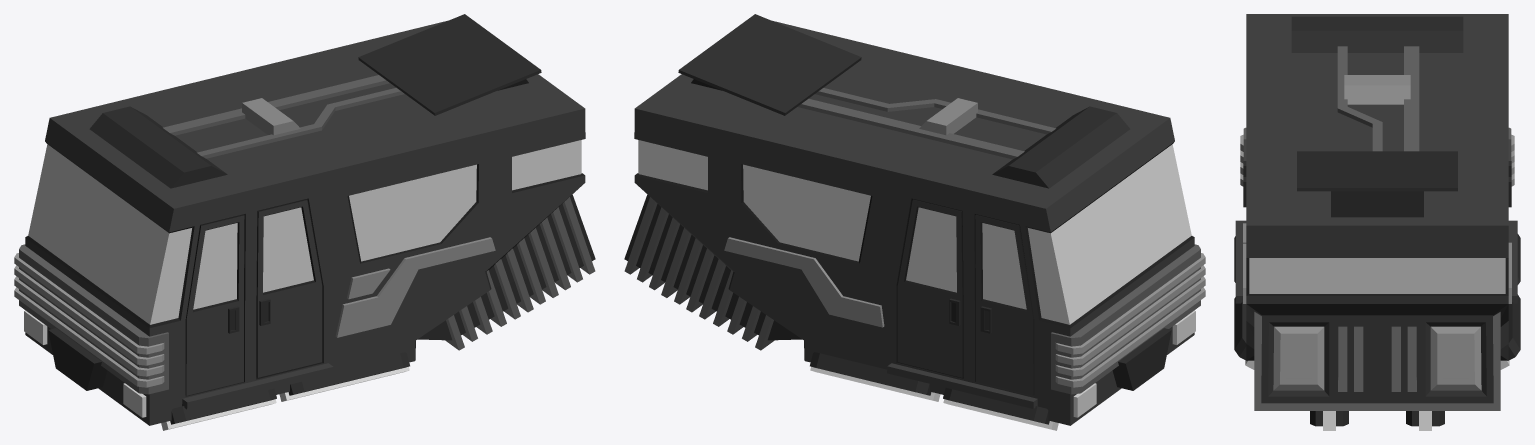
The model's file is car_B.FBX.
3 views of the same model, side by side, from view 1: azimuth 30°, elevation 25°; view 2: azimuth 150°, elevation 25°; view 3: azimuth 270°, elevation 25° (orthographic). The views are drawn at different scales.
Parts seen in each view (by area): view 1: car_B, car_B_glass, car_B_glow; view 2: car_B, car_B_glass, car_B_glow; view 3: car_B, car_B_glass, car_B_glow.
Boxes of the visible parts, x1,y1,x2,y2 form: car_B: (14, 14, 595, 425); car_B_glass: (28, 140, 581, 324); car_B_glow: (24, 310, 409, 430); car_B: (624, 14, 1205, 425); car_B_glass: (638, 140, 1191, 324); car_B_glow: (810, 310, 1195, 430); car_B: (1234, 14, 1520, 426); car_B_glass: (1249, 258, 1505, 293); car_B_glow: (1245, 326, 1509, 430).
Bounding box in the file's own units: 233 × 119 × 116.
